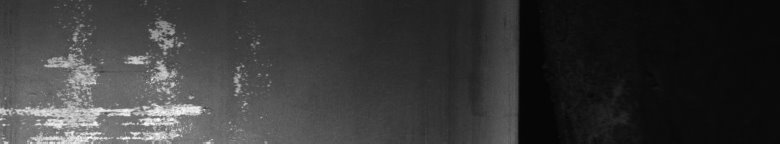kb: (4, 16, 268, 136)
